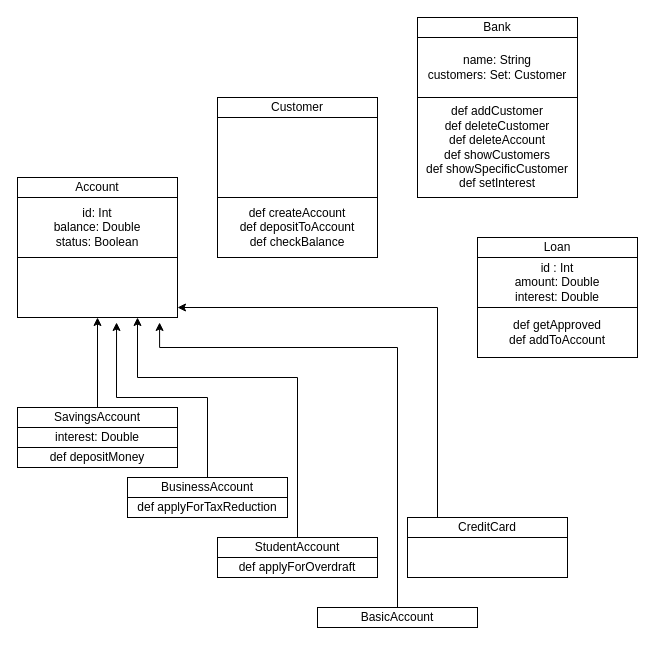
The diagram is 655 pixels wide and 645 high, and some of its shapes have lost their labels. The shapes that lost their labels are listed below. From the top down, each one's centre as x and y in pixels, then its label:
point 297,157: id : Int name: String accounts: Set:Account age: Int loans: Set: Loan
point 97,287: def sendMoney def generateCard
point 487,557: maxBalance: Double interestRate: Double
